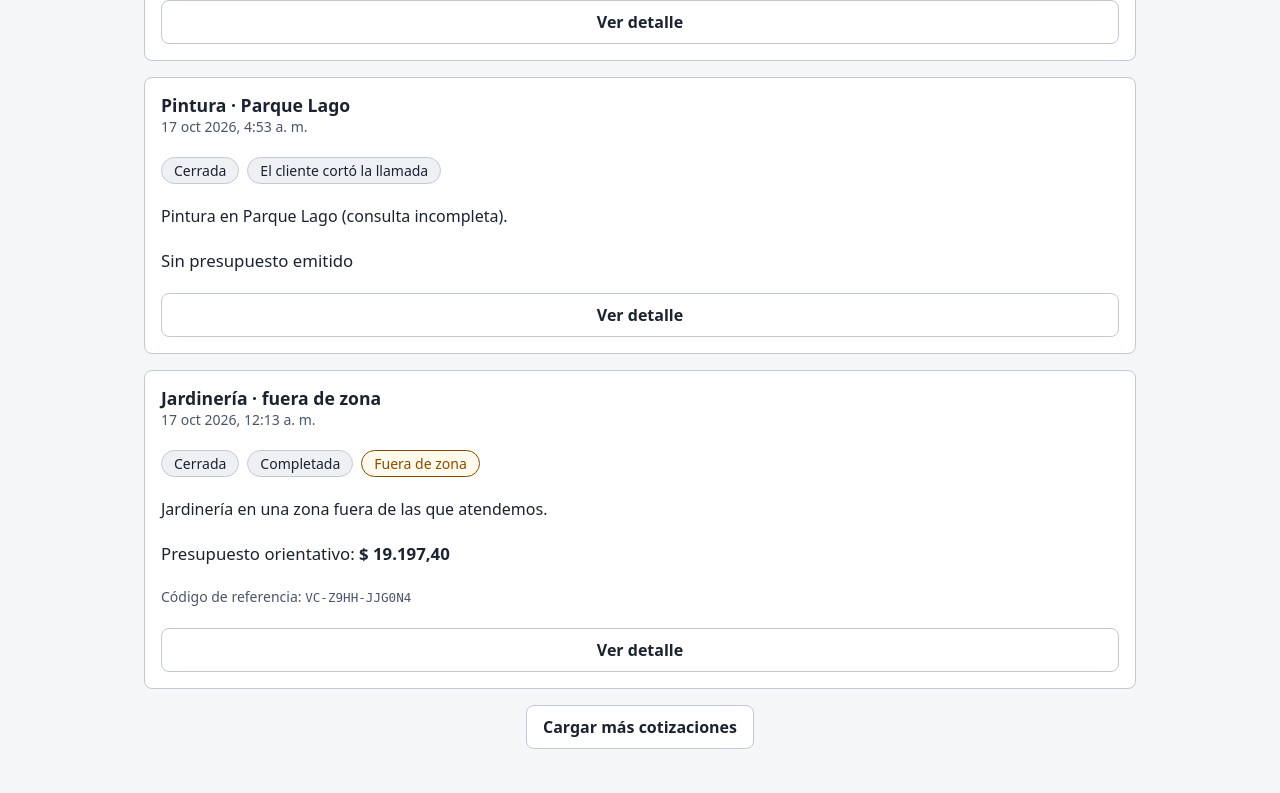
Test: Mis cotizaciones: más resultados › "Cargar más" agrega la página siguiente, anuncia cuántas llegaron y pasa el foco a la primera nueva
This screenshot has width=1280, height=793.
(page scrolled)
Click the button "Cargar más cotizaciones" at coordinates (640, 727), box [526,705,754,749]
(page scrolled)
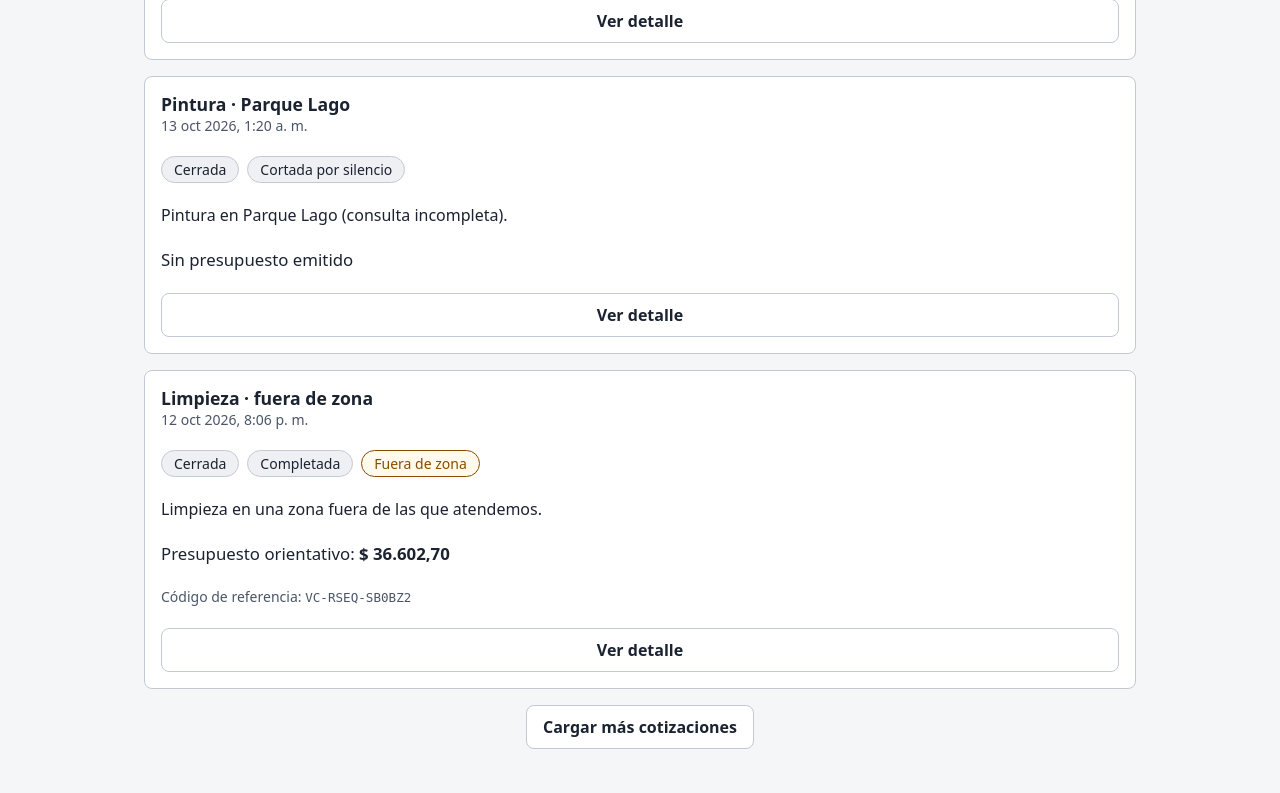
Click the button "Cargar más cotizaciones" at coordinates (640, 727), box [526,705,754,749]
(page scrolled)
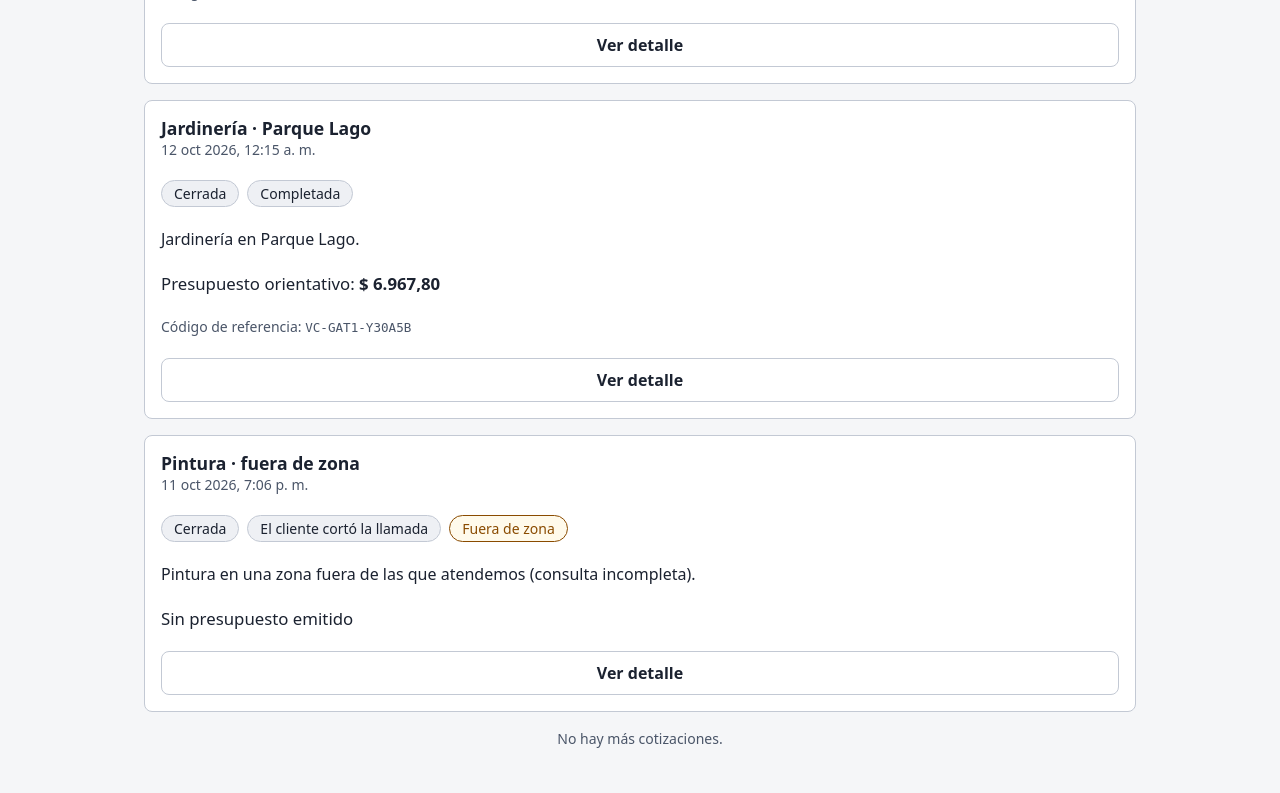
Result: the button "Cargar más cotizaciones" is gone
Result: the text "No hay más cotizaciones." is shown at [557,729,723,748]
